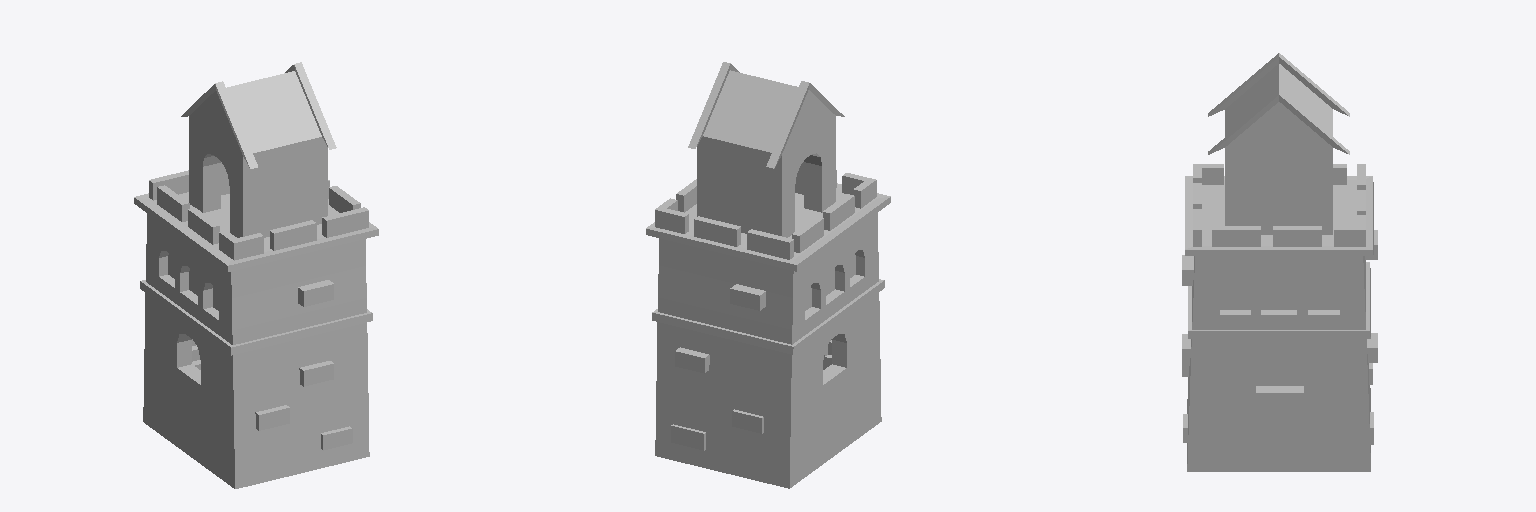
File: greatwall.obj
3 renders of one model, left to right at view 1: azimuth 30°, elevation 25°; view 2: azimuth 150°, elevation 25°; view 3: azimuth 270°, elevation 25°, orthographic.
Parts seen in each view (by area): view 1: pCube71; view 2: pCube71; view 3: pCube71.
Part boxes in pixels (x1,y1,x2,y2): pCube71: (134, 62, 378, 488); pCube71: (646, 62, 890, 488); pCube71: (1182, 53, 1377, 471).
Bounding box in the file's own units: 10.14 × 23.5 × 11.34.